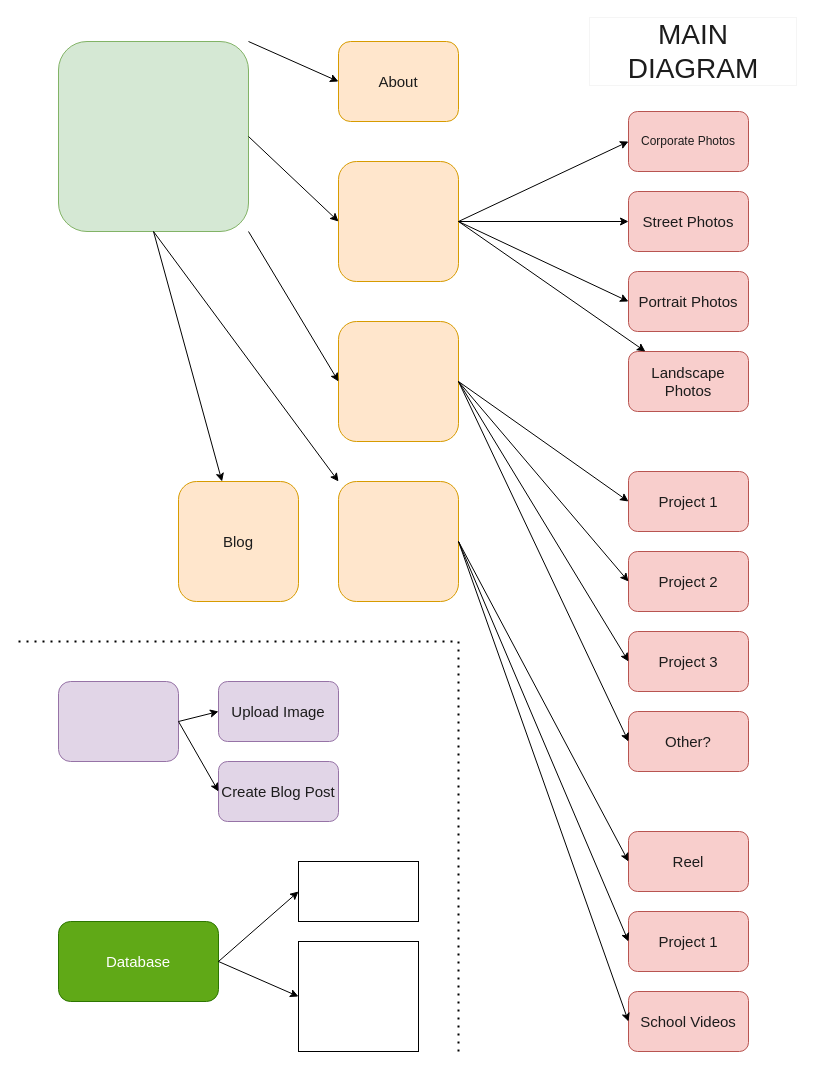
Some shapes in this 815 by 1071 pixel diagram are drawn without their labels. The centre of each missing label's shape, as x and y in pixels:
"Coding" goes at point 398,381.
"Images: -location -date -tags" goes at point 358,996.
"Index: Page includes Header, Body which includes:" goes at point 153,136.
"Login Page (private)" goes at point 118,721.
"Photography" goes at point 398,221.
"user: only me?" goes at point 358,891.
"Video" goes at point 398,541.
